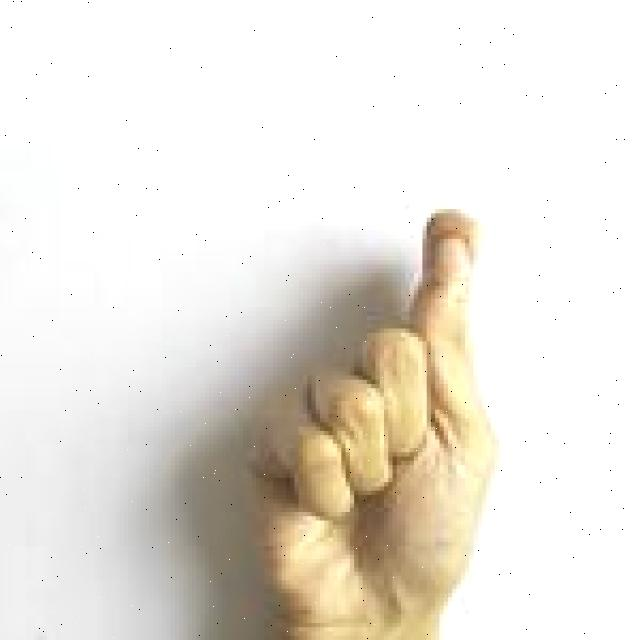T: (236, 200, 505, 640)
